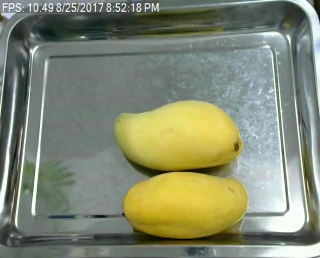Mango: (111, 98, 242, 173), (119, 172, 253, 239)
